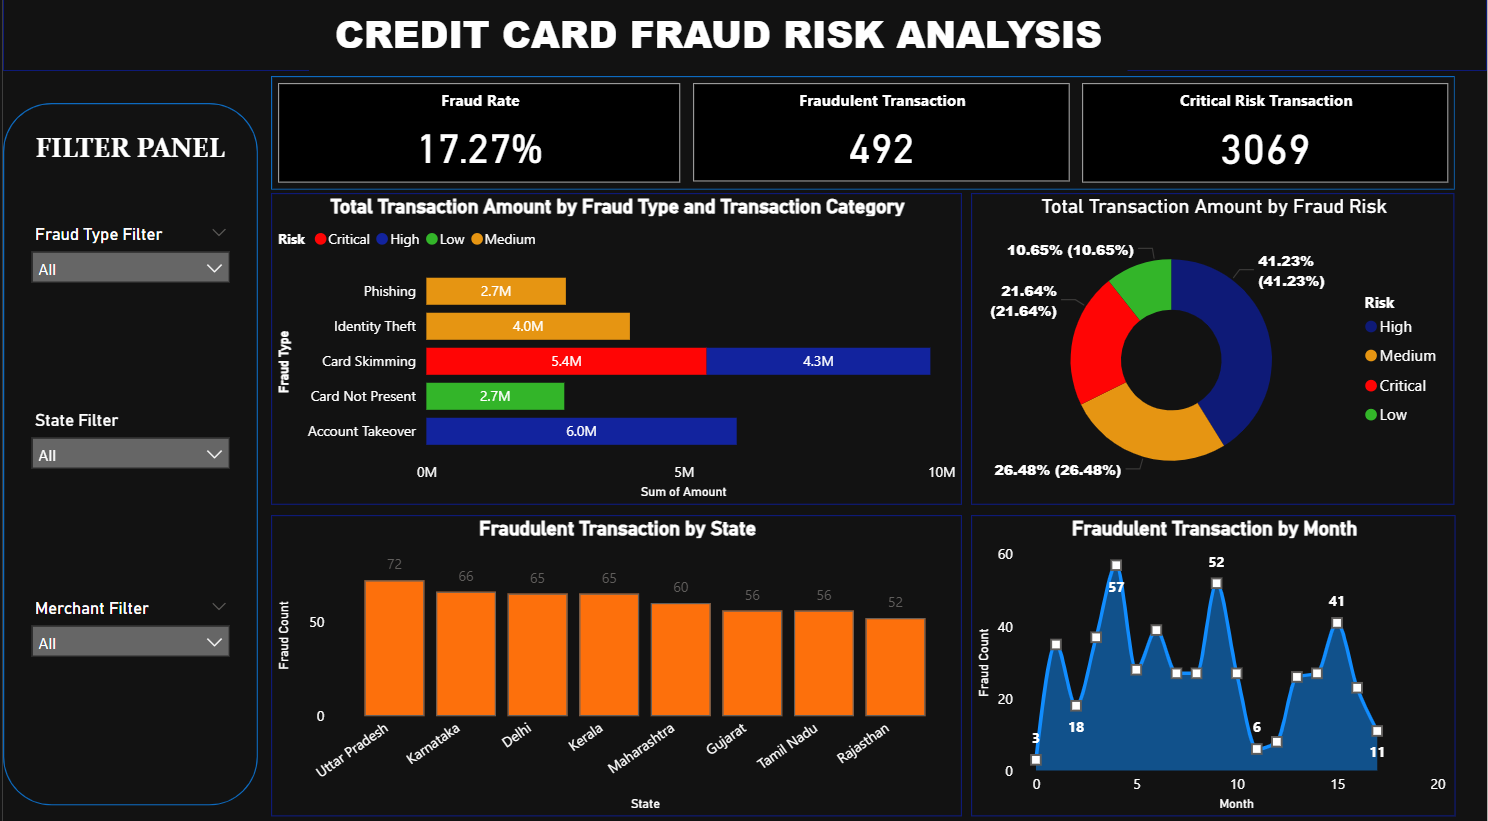

The page's visual inventory and layout, read from the dashboard file:
{"tool":"powerbi","page":{"name":"Page 1","canvas":[1280,720],"ordinal":0},"visuals":[{"type":"shape","box":[231.5,72.9,1021.3,98.2],"z":0},{"type":"shape","box":[0,0,1280,69.1],"z":1000},{"type":"shape","title":"Filter Panel","box":[0,96.3,219.8,606],"z":2000},{"type":"card","fields":{"Values":["fraud_dashboard_data.Fraudulent Transaction"]},"box":[595.3,79.8,324.9,84.6],"z":3000},{"type":"card","fields":{"Values":["fraud_dashboard_data.Critical Risk Transaction"]},"box":[930.8,79.8,316.1,85.6],"z":4000},{"type":"barChart","title":"Total Transaction Amount by Fraud Type and Transaction Category","fields":{"Category":["fraud_dashboard_data.Fraud Type"],"Y":["Sum(fraud_dashboard_data.Amount)"],"Series":["fraud_dashboard_data.Risk"]},"box":[231.2,174.2,596,269.1],"z":5000},{"type":"donutChart","title":"Total Transaction Amount by Fraud Risk","fields":{"Category":["fraud_dashboard_data.Risk"],"Y":["Sum(fraud_dashboard_data.Amount)"]},"box":[834.9,174.2,417.5,269.1],"z":6000},{"type":"clusteredColumnChart","title":"Fraudulent Transaction by State","fields":{"Category":["fraud_dashboard_data.State"],"Y":["fraud_dashboard_data.Fraud Count"]},"box":[231.2,452,596,260.5],"z":7000},{"type":"lineChart","title":"Fraudulent Transaction by Month","fields":{"Category":["fraud_dashboard_data.Month"],"Y":["fraud_dashboard_data.Fraud Count"]},"box":[834.9,452,418.3,260.5],"z":8000},{"type":"slicer","fields":{"Values":["fraud_dashboard_data.Fraud Type"]},"box":[14.6,196.5,190.6,80.7],"z":9000},{"type":"slicer","fields":{"Values":["fraud_dashboard_data.State"]},"box":[14.7,357.1,190.6,80.2],"z":10000},{"type":"slicer","fields":{"Values":["fraud_dashboard_data.Merchant"]},"box":[14.7,519.2,190.6,81.1],"z":11000},{"type":"textbox","box":[21.4,115.7,176,55.4],"z":12000},{"type":"textbox","box":[263.9,9.5,706.4,59.5],"z":13000},{"type":"card","fields":{"Values":["fraud_dashboard_data.Fraud Rate"]},"box":[237.3,79.8,347.2,85.6],"z":14000}]}

Visuals, with their boxes in screenshot pixels (x1, y1, x2, y2), scaled from the page's 1280x720 canvas onto the 1488x821 screenshot:
shape: pyautogui.locateOnScreen(269, 83, 1456, 195)
shape: pyautogui.locateOnScreen(0, 0, 1487, 79)
"Filter Panel" shape: pyautogui.locateOnScreen(0, 110, 256, 801)
card - fraud_dashboard_data.Fraudulent Transaction: pyautogui.locateOnScreen(692, 91, 1070, 187)
card - fraud_dashboard_data.Critical Risk Transaction: pyautogui.locateOnScreen(1082, 91, 1450, 189)
"Total Transaction Amount by Fraud Type and Transaction Category" barChart: pyautogui.locateOnScreen(269, 199, 962, 505)
"Total Transaction Amount by Fraud Risk" donutChart: pyautogui.locateOnScreen(971, 199, 1456, 505)
"Fraudulent Transaction by State" clusteredColumnChart: pyautogui.locateOnScreen(269, 515, 962, 812)
"Fraudulent Transaction by Month" lineChart: pyautogui.locateOnScreen(971, 515, 1457, 812)
slicer - fraud_dashboard_data.Fraud Type: pyautogui.locateOnScreen(17, 224, 239, 316)
slicer - fraud_dashboard_data.State: pyautogui.locateOnScreen(17, 407, 239, 499)
slicer - fraud_dashboard_data.Merchant: pyautogui.locateOnScreen(17, 592, 239, 685)
textbox: pyautogui.locateOnScreen(25, 132, 229, 195)
textbox: pyautogui.locateOnScreen(307, 11, 1128, 79)
card - fraud_dashboard_data.Fraud Rate: pyautogui.locateOnScreen(276, 91, 679, 189)
